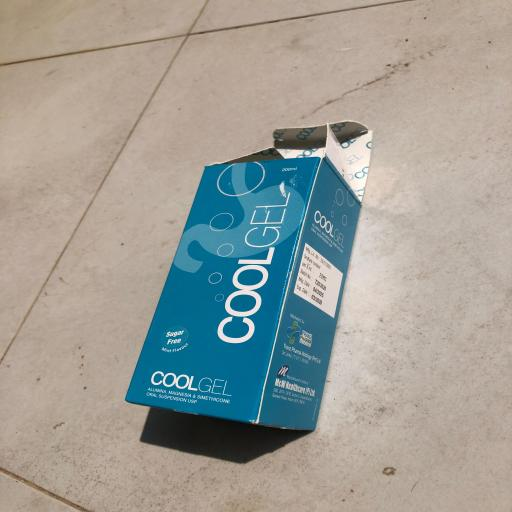waste: (105, 112, 402, 442)
